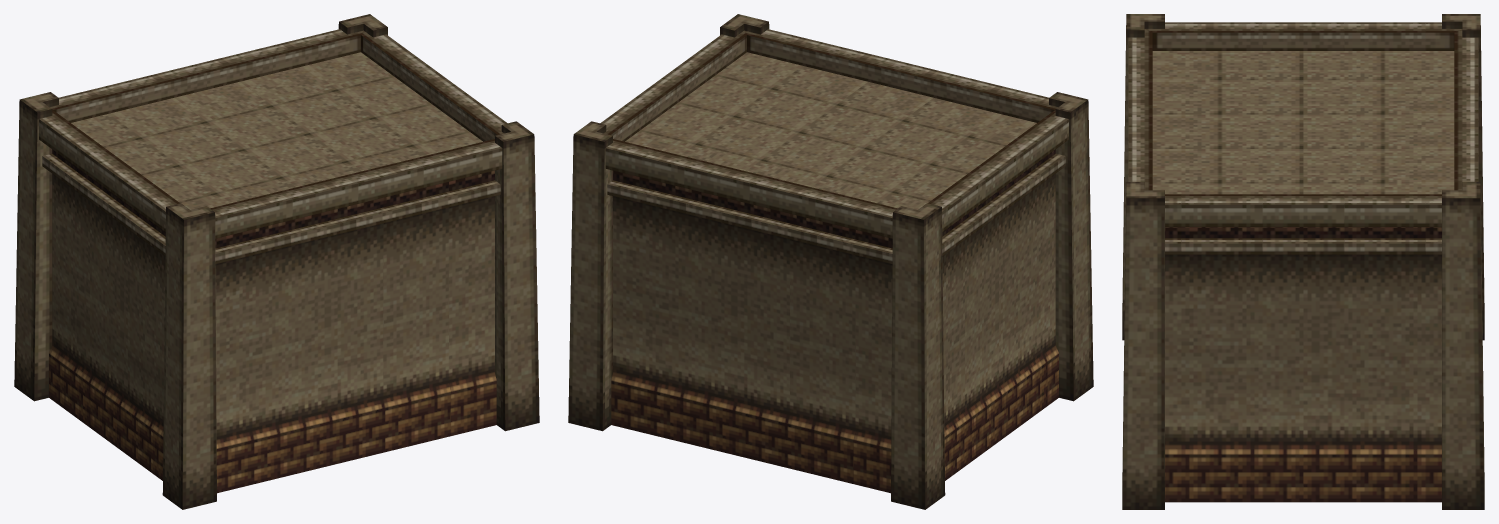
The model's file is EnvBdgMD_Wilderness_C_Outdoor_House_A.FBX.
3 renders of one model, left to right at view 1: azimuth 30°, elevation 25°; view 2: azimuth 150°, elevation 25°; view 3: azimuth 270°, elevation 25°, orthographic. The views are drawn at different scales.
Parts seen in each view (by area): view 1: EnvBdgMD_Wilderness_C_Outdoor_House_A; view 2: EnvBdgMD_Wilderness_C_Outdoor_House_A; view 3: EnvBdgMD_Wilderness_C_Outdoor_House_A.
Boxes of the visible parts, left/top/right/bottom form: EnvBdgMD_Wilderness_C_Outdoor_House_A: left=14, top=14, right=539, bottom=509; EnvBdgMD_Wilderness_C_Outdoor_House_A: left=568, top=14, right=1093, bottom=509; EnvBdgMD_Wilderness_C_Outdoor_House_A: left=1122, top=14, right=1484, bottom=509.
Size of the model in its own units: 545 by 420 by 445.
1 material, 1 textured.
